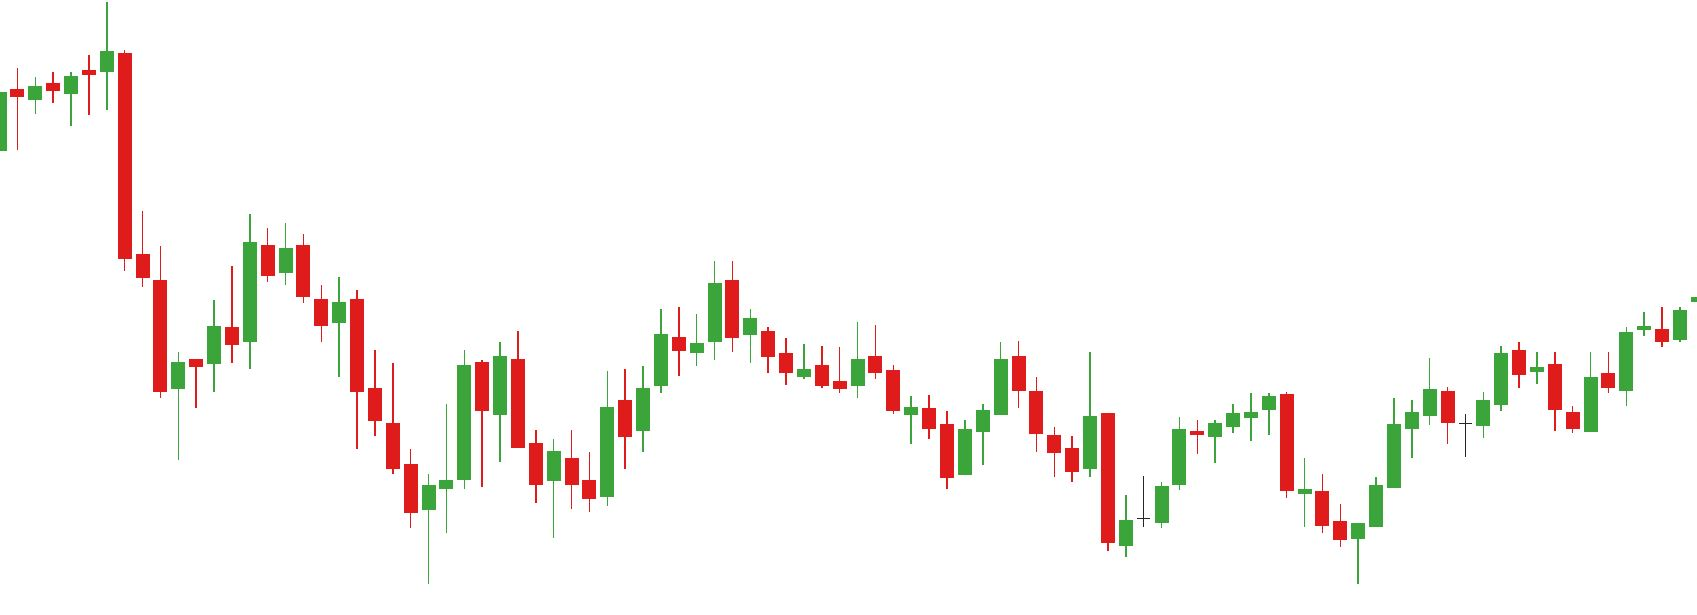buy: (169, 322, 476, 587)
